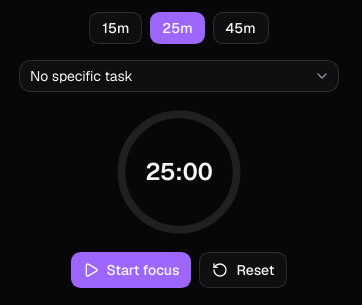
FocusTimer › completes the session, awards XP, and disables further starts
Click the dropdown.
click(81, 76)  # box [19,60,339,92]
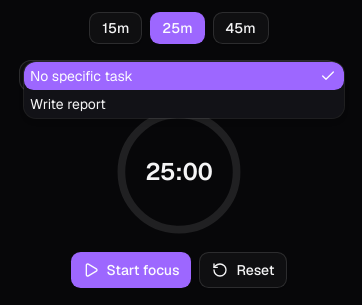
Click the option "Write report".
click(68, 104)  # box [30,95,106,113]
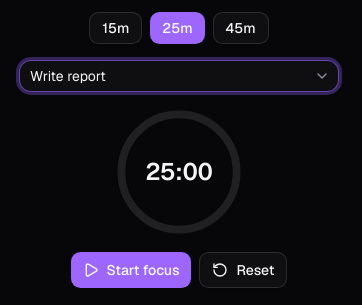
Click the button "15m".
click(116, 28)  # box [89,12,142,44]
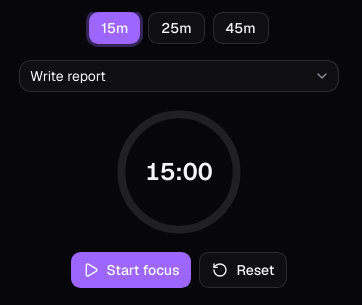
Click the button "Start focus".
click(131, 270)  # box [70,252,192,288]
Wait 900000 ms
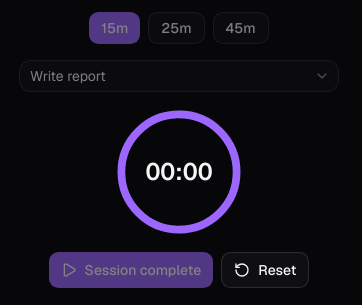
expect the text "00:00" is shown: met, box [145,156,213,188]
expect the button "Session complete" is disabled: met, box [49,252,213,288]
